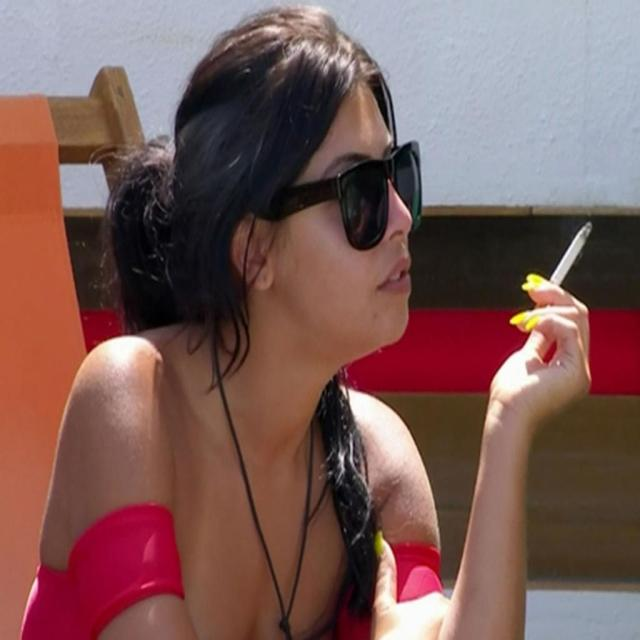smoking: (509, 220, 594, 334)
